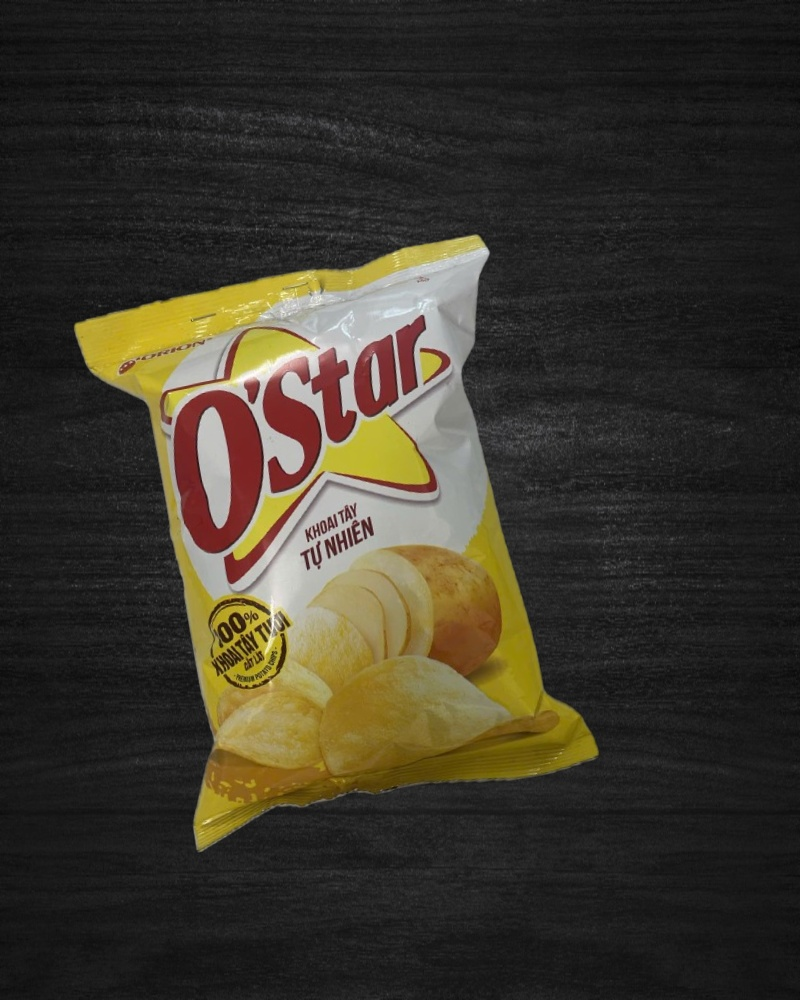O'star: (72, 229, 604, 858)
